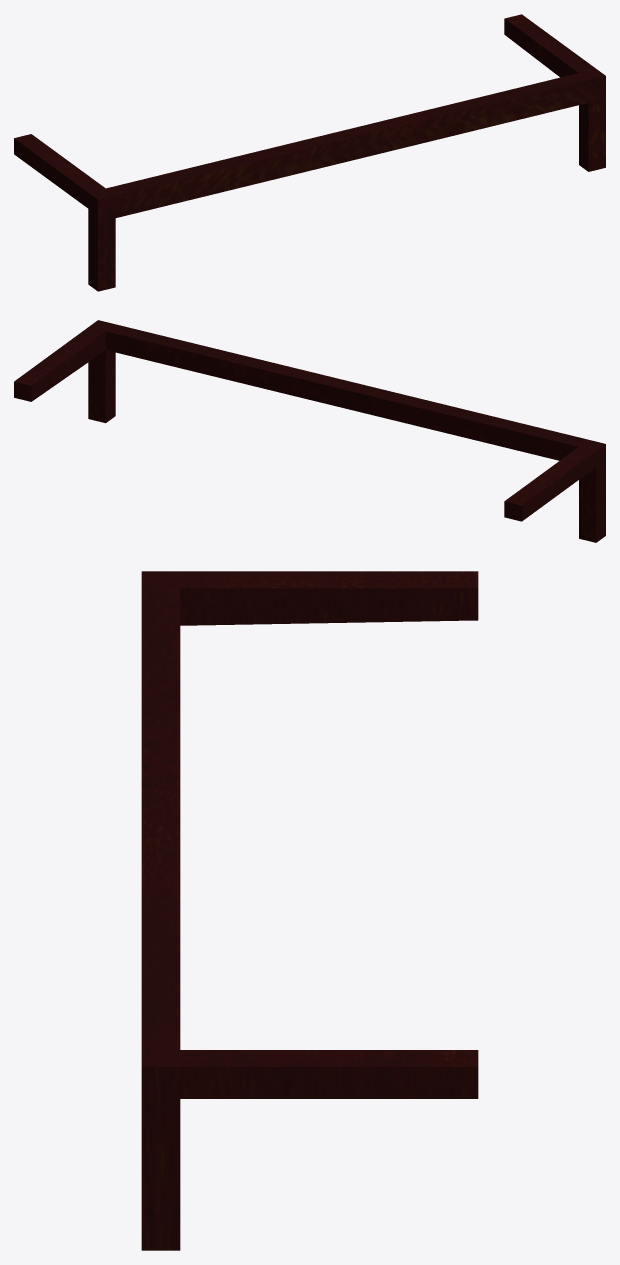
Rendered from AirConP01.fbx.
The picture shows the model from 3 angles, top to bottom: view 1: azimuth 30°, elevation 25°; view 2: azimuth 150°, elevation 25°; view 3: azimuth 270°, elevation 25°; orthographic projection. The views are drawn at different scales.
Parts seen in each view (by area): view 1: Cube; view 2: Cube; view 3: Cube.
Boxes of the visible parts, x1=… form: Cube: x1=14, y1=14, x2=605, y2=291; Cube: x1=14, y1=320, x2=605, y2=542; Cube: x1=141, y1=571, x2=478, y2=1250.
Bounding box in the file's own units: 160 × 27.72 × 46.
